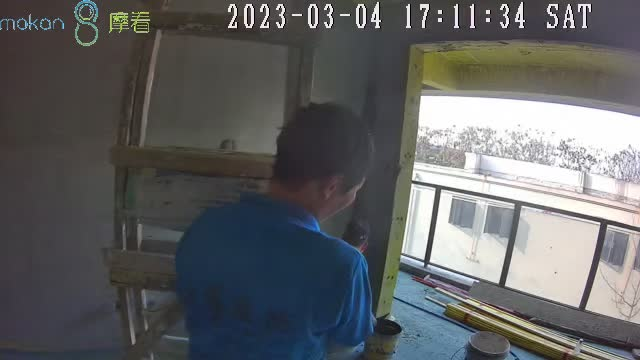people: (173, 103, 377, 360)
window: (405, 89, 640, 327)
